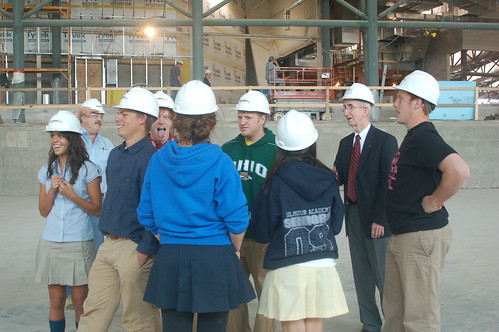person hardhat: (138, 79, 253, 332), (250, 108, 355, 332), (388, 70, 470, 332), (103, 85, 166, 332), (333, 82, 389, 332), (39, 108, 94, 331), (221, 87, 269, 332), (78, 94, 107, 287), (147, 80, 176, 153), (162, 54, 184, 85), (265, 55, 280, 94), (203, 63, 212, 89)
